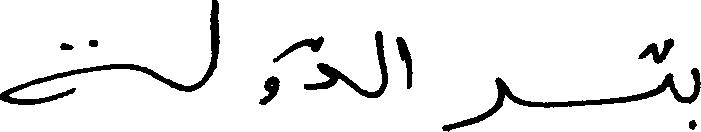X: (0, 35, 117, 109), (443, 72, 505, 131), (305, 31, 338, 94), (205, 0, 218, 87), (374, 26, 388, 102), (261, 51, 278, 109), (397, 32, 412, 93), (690, 63, 700, 131), (664, 33, 673, 99)
